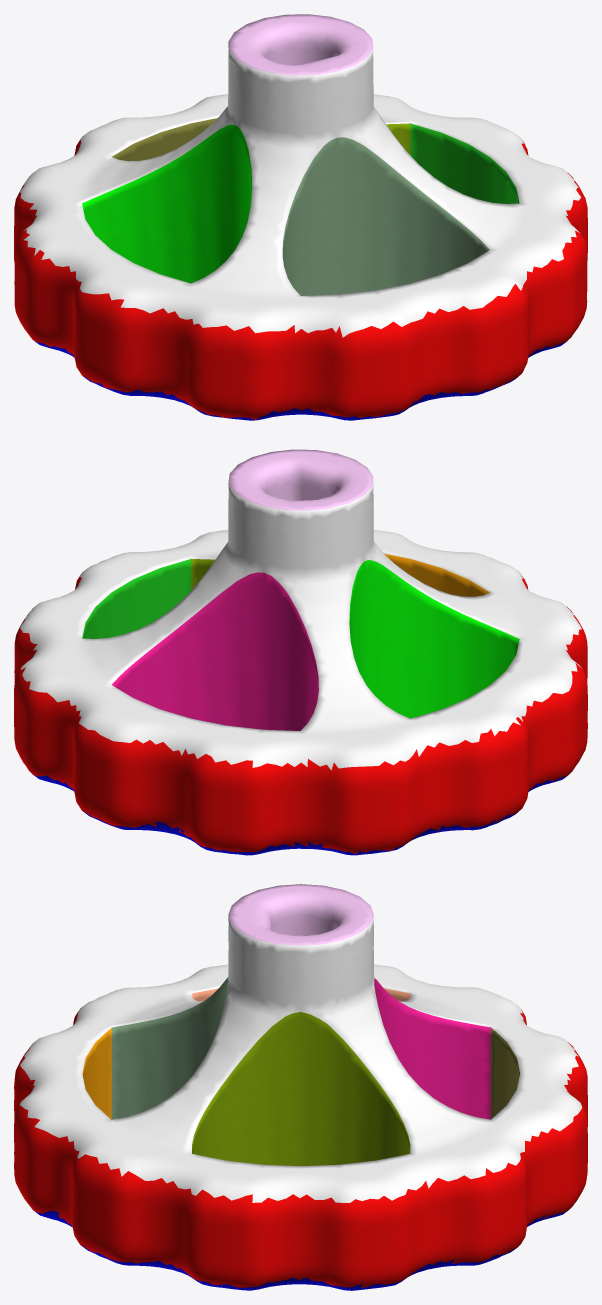
The model's file is model_87_segmented_new.obj.
3 renders of one model, top to bottom at view 1: azimuth 30°, elevation 25°; view 2: azimuth 150°, elevation 25°; view 3: azimuth 270°, elevation 25°, orthographic.
Bounding box in the file's own units: 39.35 × 20.02 × 39.33.
